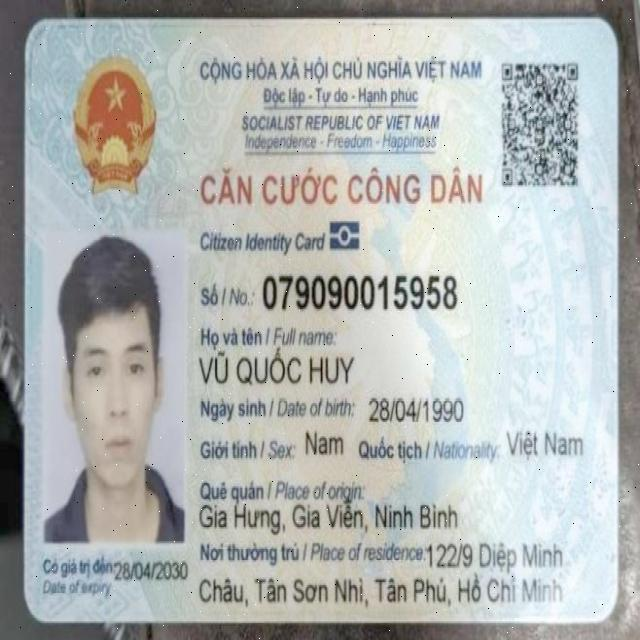current_place: (197, 569, 564, 613), (425, 535, 565, 572)
dob: (367, 390, 466, 426)
expire_date: (114, 556, 193, 586)
gender: (303, 426, 348, 462)
id: (261, 270, 459, 318)
name: (195, 348, 356, 389)
nationality: (503, 424, 587, 461)
origin_place: (199, 500, 463, 535)
qr: (493, 46, 585, 200)
